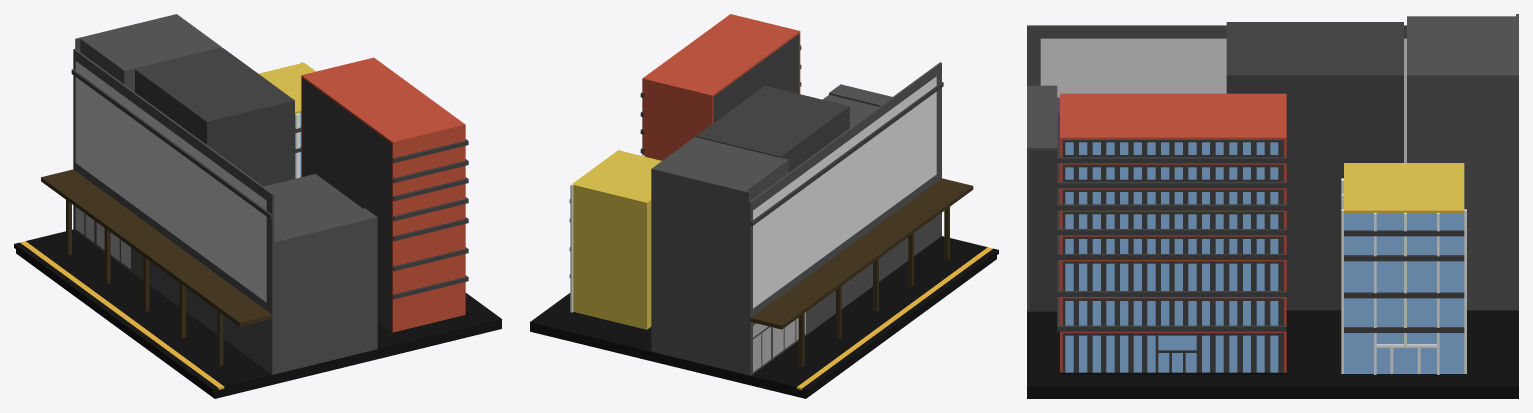
File: sity_1.vox.obj
The picture shows the model from 3 angles, left to right: view 1: azimuth 30°, elevation 25°; view 2: azimuth 150°, elevation 25°; view 3: azimuth 270°, elevation 25°; orthographic projection. The views are drawn at different scales.
Size of the model in its own units: 15.1 by 10 by 18.
Materials: 1 (1 with a texture image).
